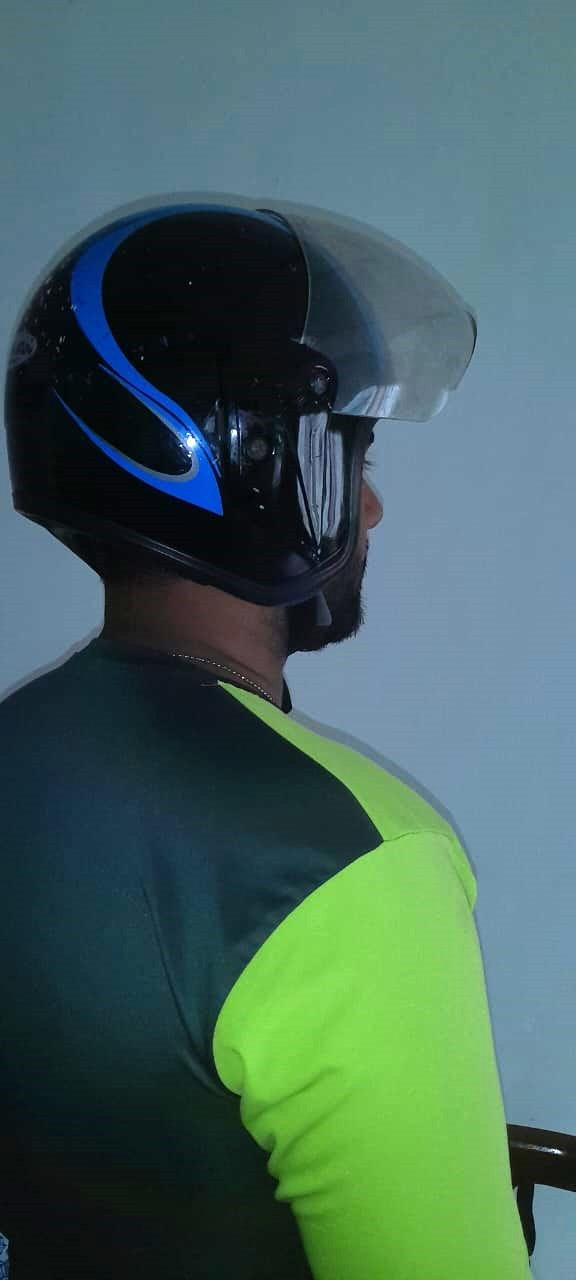helmet: (0, 191, 477, 606)
